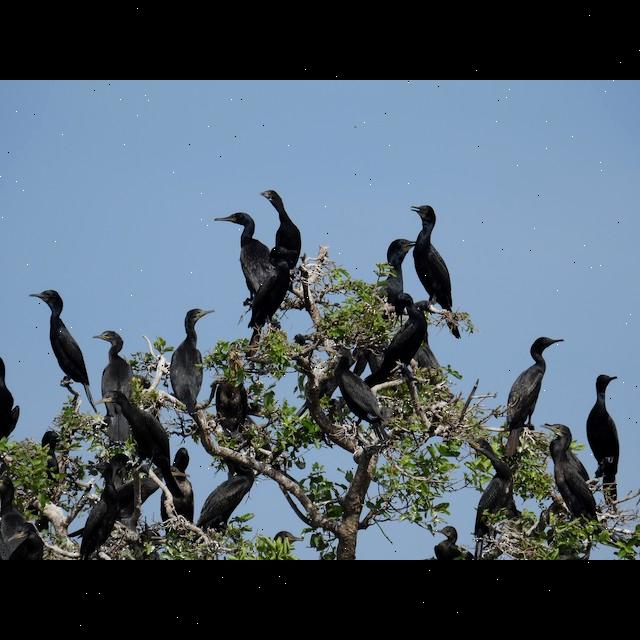cormorant: (25, 289, 89, 411), (408, 197, 462, 336), (210, 205, 274, 318), (497, 331, 567, 431), (162, 300, 216, 422), (544, 418, 594, 538), (584, 370, 628, 500), (370, 234, 418, 326), (258, 183, 304, 274), (90, 328, 136, 407)
